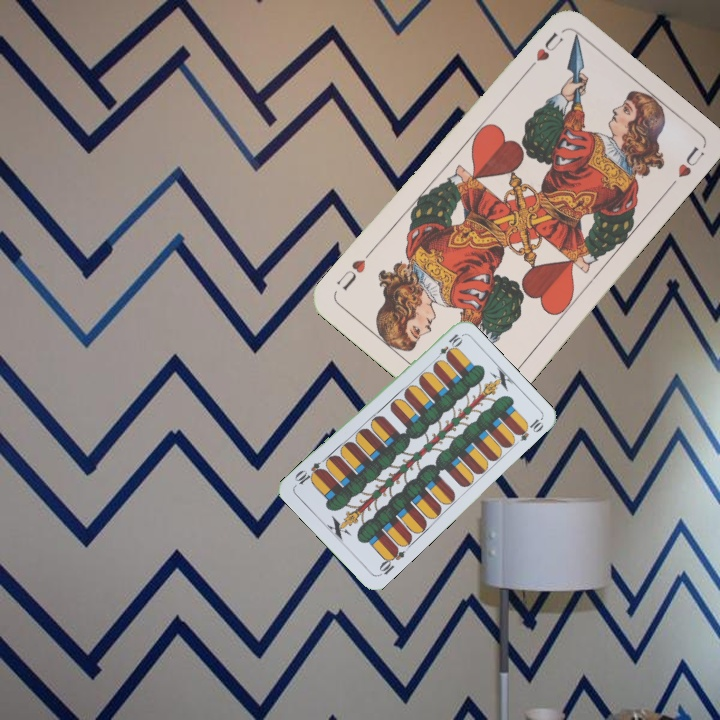E10: (375, 543, 407, 579), (431, 330, 464, 364)
HU: (521, 28, 566, 76)
